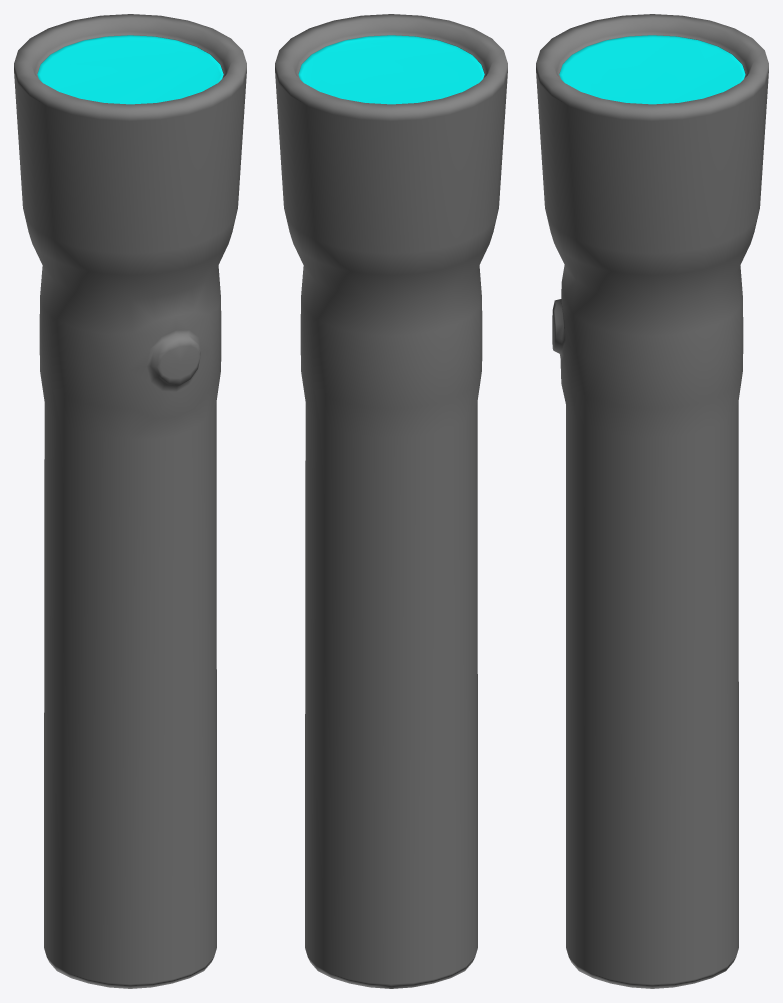
The picture shows the model from 3 angles, left to right: view 1: azimuth 30°, elevation 25°; view 2: azimuth 150°, elevation 25°; view 3: azimuth 270°, elevation 25°; orthographic projection.
Parts seen in each view (by area): view 1: midComb_light_bottom, glassTop; view 2: midComb_light_bottom, glassTop; view 3: midComb_light_bottom, glassTop.
Part boxes in pixels (bbox=[...]): midComb_light_bottom: bbox=[14, 14, 246, 988]; glassTop: bbox=[37, 35, 223, 104]; midComb_light_bottom: bbox=[275, 14, 507, 988]; glassTop: bbox=[298, 35, 484, 104]; midComb_light_bottom: bbox=[536, 14, 768, 988]; glassTop: bbox=[559, 35, 745, 104].
Bounding box in the file's own units: 0.3387 × 1.43 × 0.3387.
